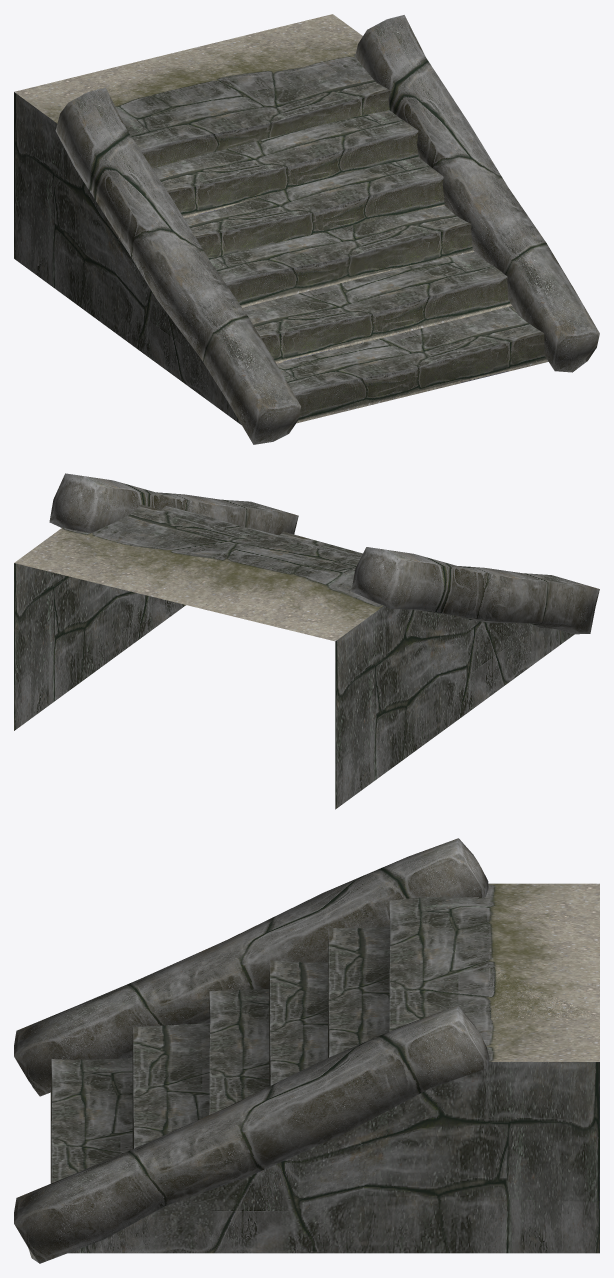
Rendered from Steps B.fbx.
3 renders of one model, top to bottom at view 1: azimuth 30°, elevation 25°; view 2: azimuth 150°, elevation 25°; view 3: azimuth 270°, elevation 25°, orthographic. The views are drawn at different scales.
Visible parts, largest first — view 1: Steps B; view 2: Steps B; view 3: Steps B.
Part boxes in pixels (box(x1,y1,x2,y2)): Steps B: box(14, 14, 599, 444); Steps B: box(14, 473, 599, 809); Steps B: box(14, 838, 599, 1263).
Bounding box in the file's own units: 4.41 × 2.61 × 5.55.
